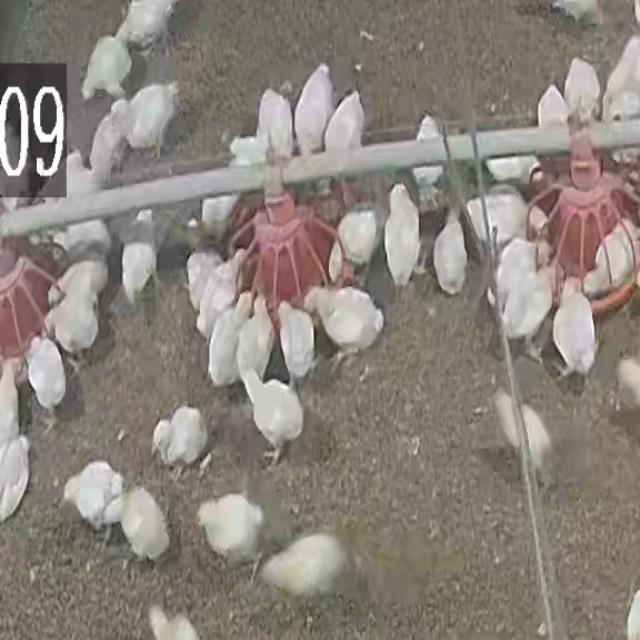chicken: (237, 359, 303, 461), (501, 261, 563, 356), (259, 533, 349, 596), (490, 388, 553, 474), (329, 198, 392, 281), (306, 287, 383, 353), (203, 288, 250, 389), (196, 496, 266, 562), (110, 487, 170, 562), (583, 219, 639, 299), (124, 81, 182, 158), (554, 281, 598, 377), (61, 460, 125, 525), (48, 284, 100, 364), (199, 252, 244, 344), (382, 183, 421, 289), (468, 188, 530, 253), (155, 395, 208, 470), (293, 65, 334, 156), (120, 203, 158, 301), (25, 335, 67, 422), (80, 35, 132, 103), (600, 34, 640, 122), (117, 0, 180, 55), (499, 235, 550, 302), (321, 90, 366, 162), (85, 108, 127, 185), (436, 206, 472, 295), (277, 300, 316, 382), (412, 114, 448, 193), (58, 216, 113, 267), (55, 258, 105, 314), (241, 291, 269, 386), (0, 438, 31, 520), (257, 88, 293, 158), (563, 56, 602, 118), (198, 194, 241, 244), (0, 362, 21, 453), (148, 604, 201, 640), (484, 155, 538, 185), (537, 84, 569, 132), (228, 134, 269, 170)
